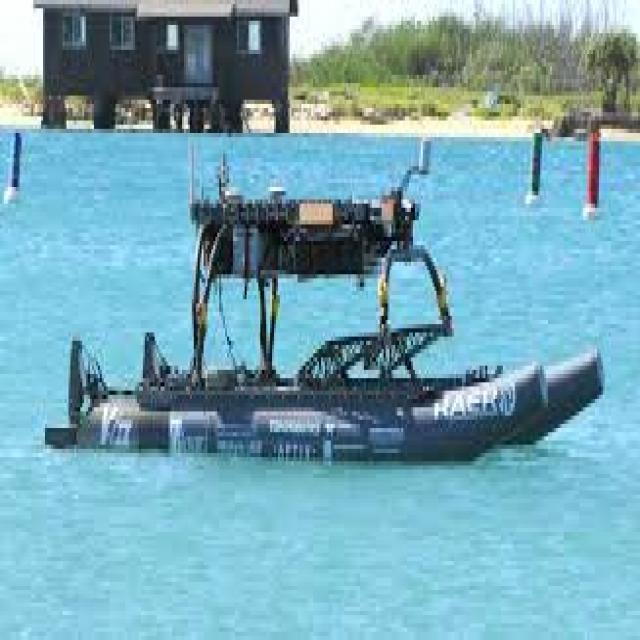Wam_V: (43, 163, 610, 490)
